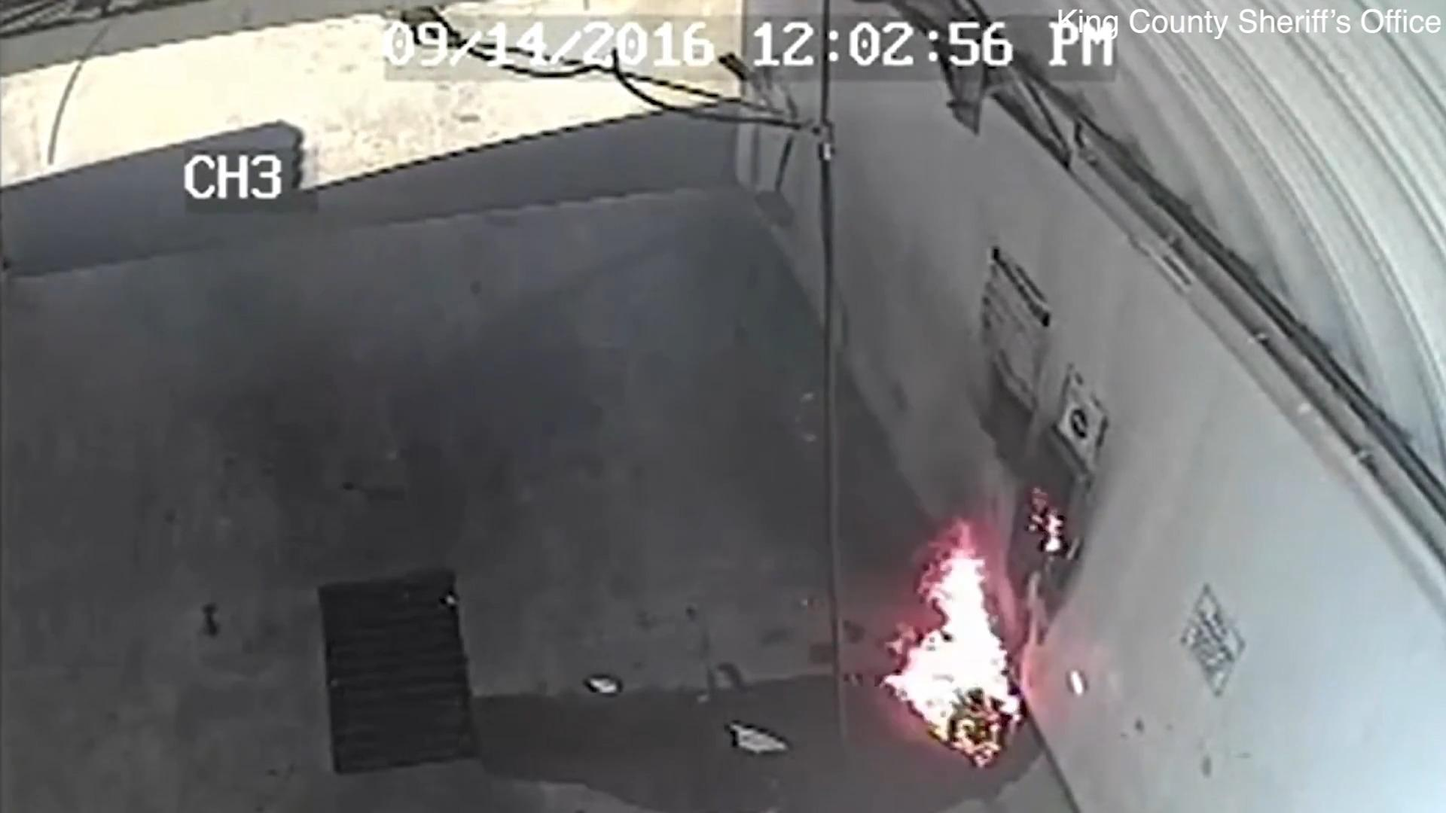fire: (879, 517, 1023, 768)
